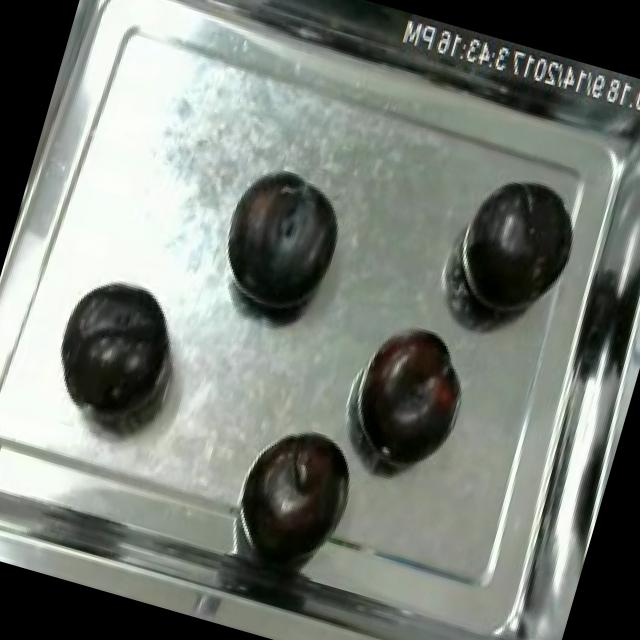Fruit: (207, 157, 358, 332), (442, 162, 590, 334), (39, 264, 190, 432), (341, 310, 481, 478), (240, 414, 362, 554)
